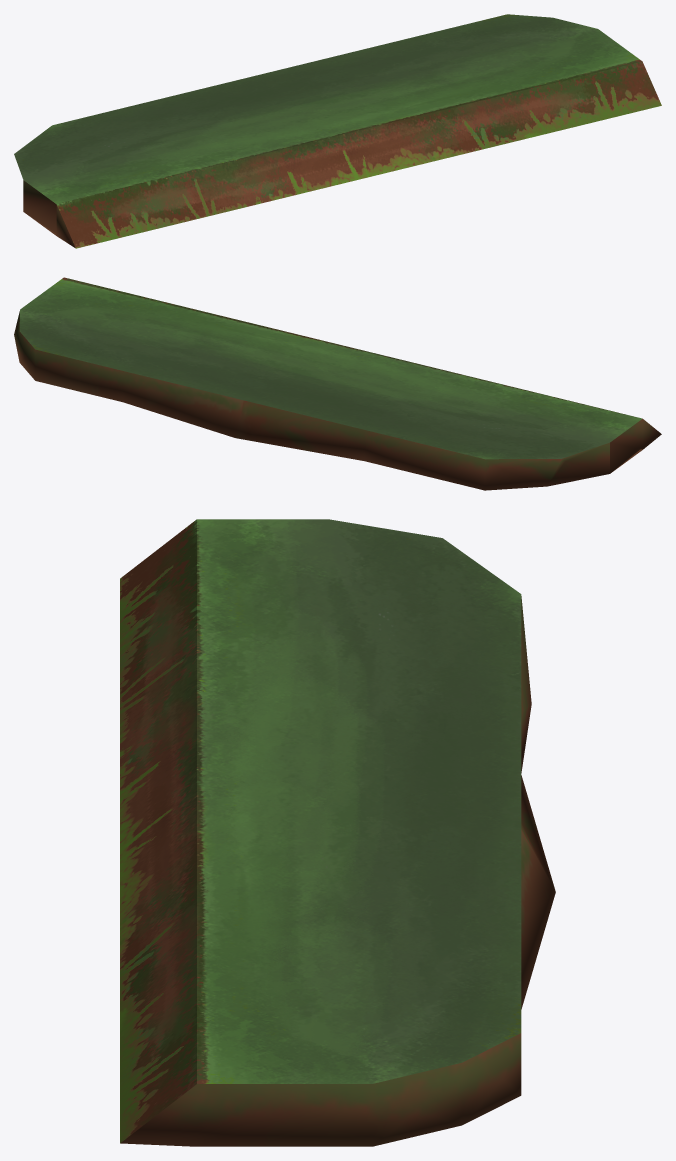
File: Ground_Ramp.fbx
The picture shows the model from 3 angles, top to bottom: view 1: azimuth 30°, elevation 25°; view 2: azimuth 150°, elevation 25°; view 3: azimuth 270°, elevation 25°; orthographic projection. The views are drawn at different scales.
Parts seen in each view (by area): view 1: Ramp; view 2: Ramp; view 3: Ramp.
Boxes of the visible parts, x1,y1,x2,y2 form: Ramp: [14, 14, 661, 248]; Ramp: [14, 277, 661, 490]; Ramp: [120, 519, 555, 1146].
Size of the model in its own units: 4097 by 212 by 1336.
